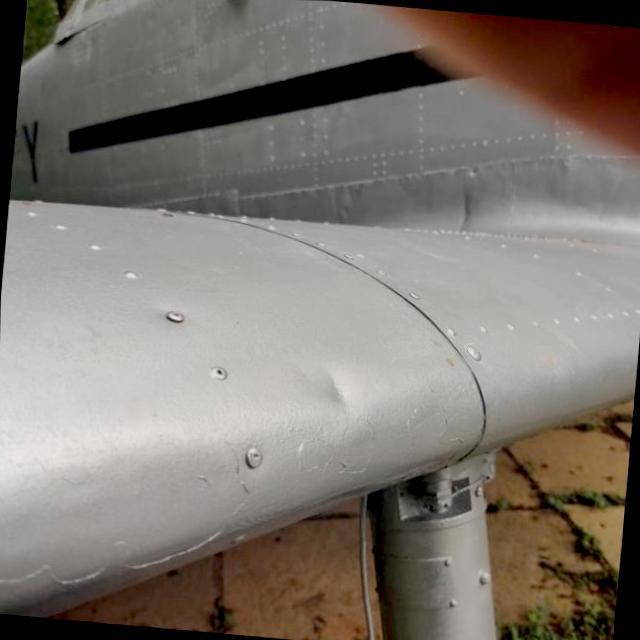dent: (300, 356, 365, 432)
